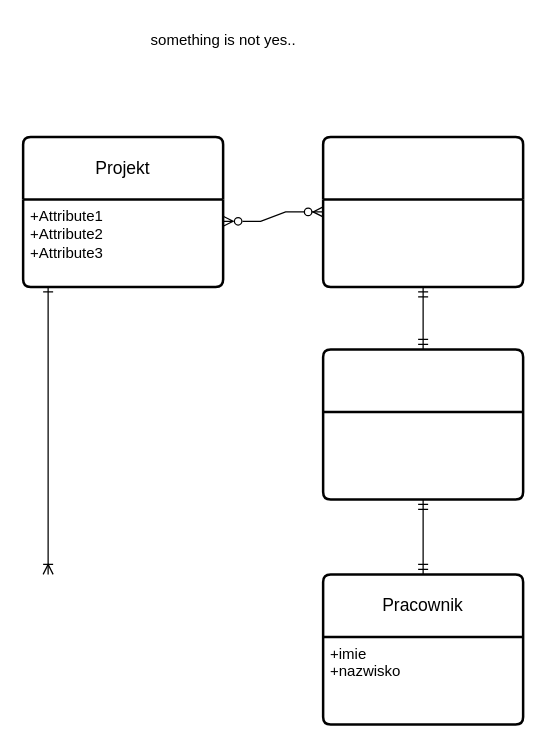
Image size: 545x746. Some labels were removed from this diagram. The centre of each missing label's shape, as x and y in pixels:
Funkcja Pracownika: the point at 422,424
Zespół: the point at 422,211
